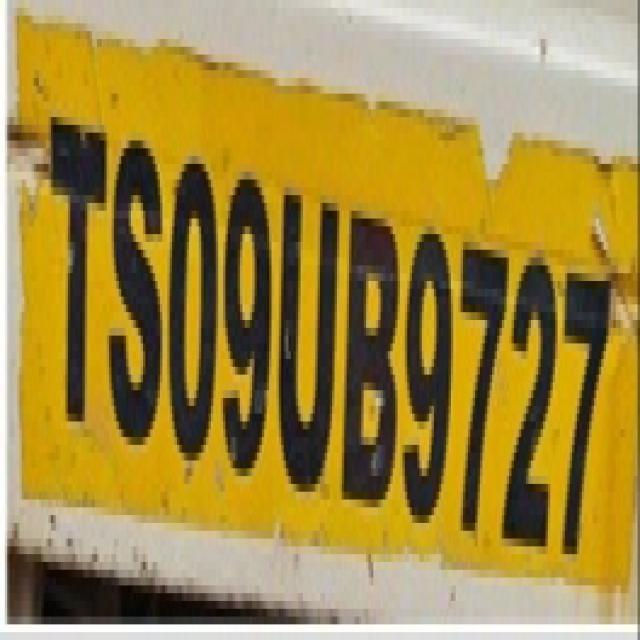0: (166, 142, 220, 483)
7: (562, 249, 615, 597), (457, 220, 508, 552)
9: (220, 148, 274, 504), (403, 208, 452, 548)
B: (339, 183, 402, 556)
S: (110, 111, 164, 487)
T: (47, 80, 109, 444)
U: (276, 156, 342, 526)
